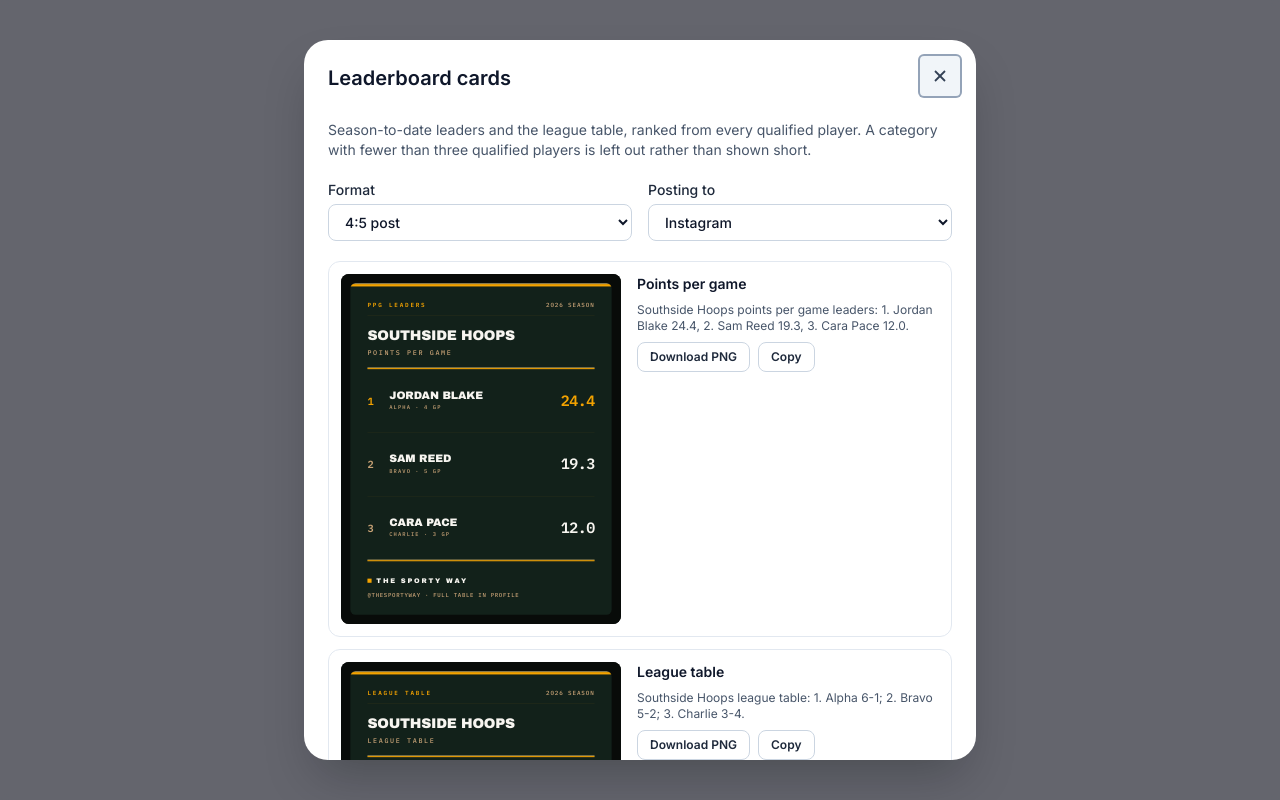
LeaderboardCardsModal › reports a failed render rather than downloading nothing silently
The width and height of the screenshot is (1280, 800).
What coordinates should you click on to do the following:
click the button "Download PNG" below "PPG LEADERS"
I would click on:
 (694, 357)
Its box is [637,342,750,372].
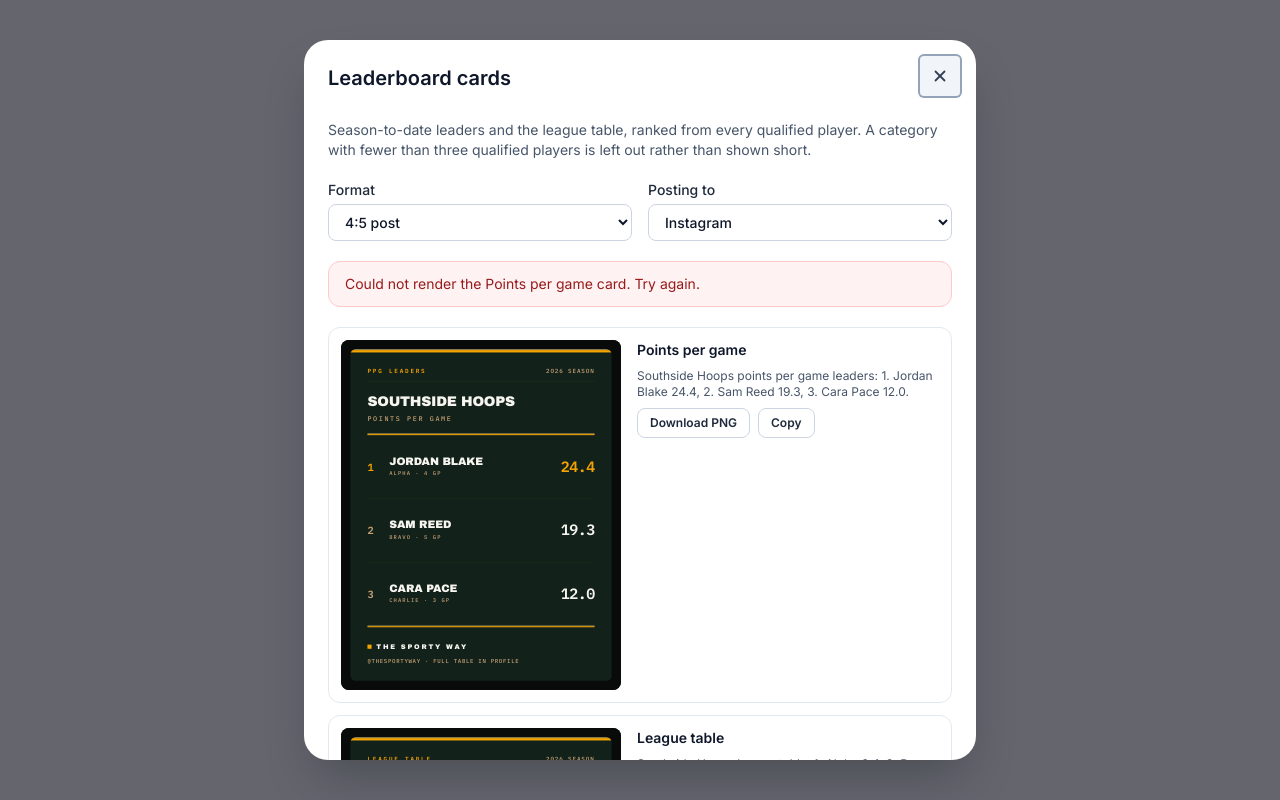
Check: the message shows "Could not render", box [345,275,700,292]
